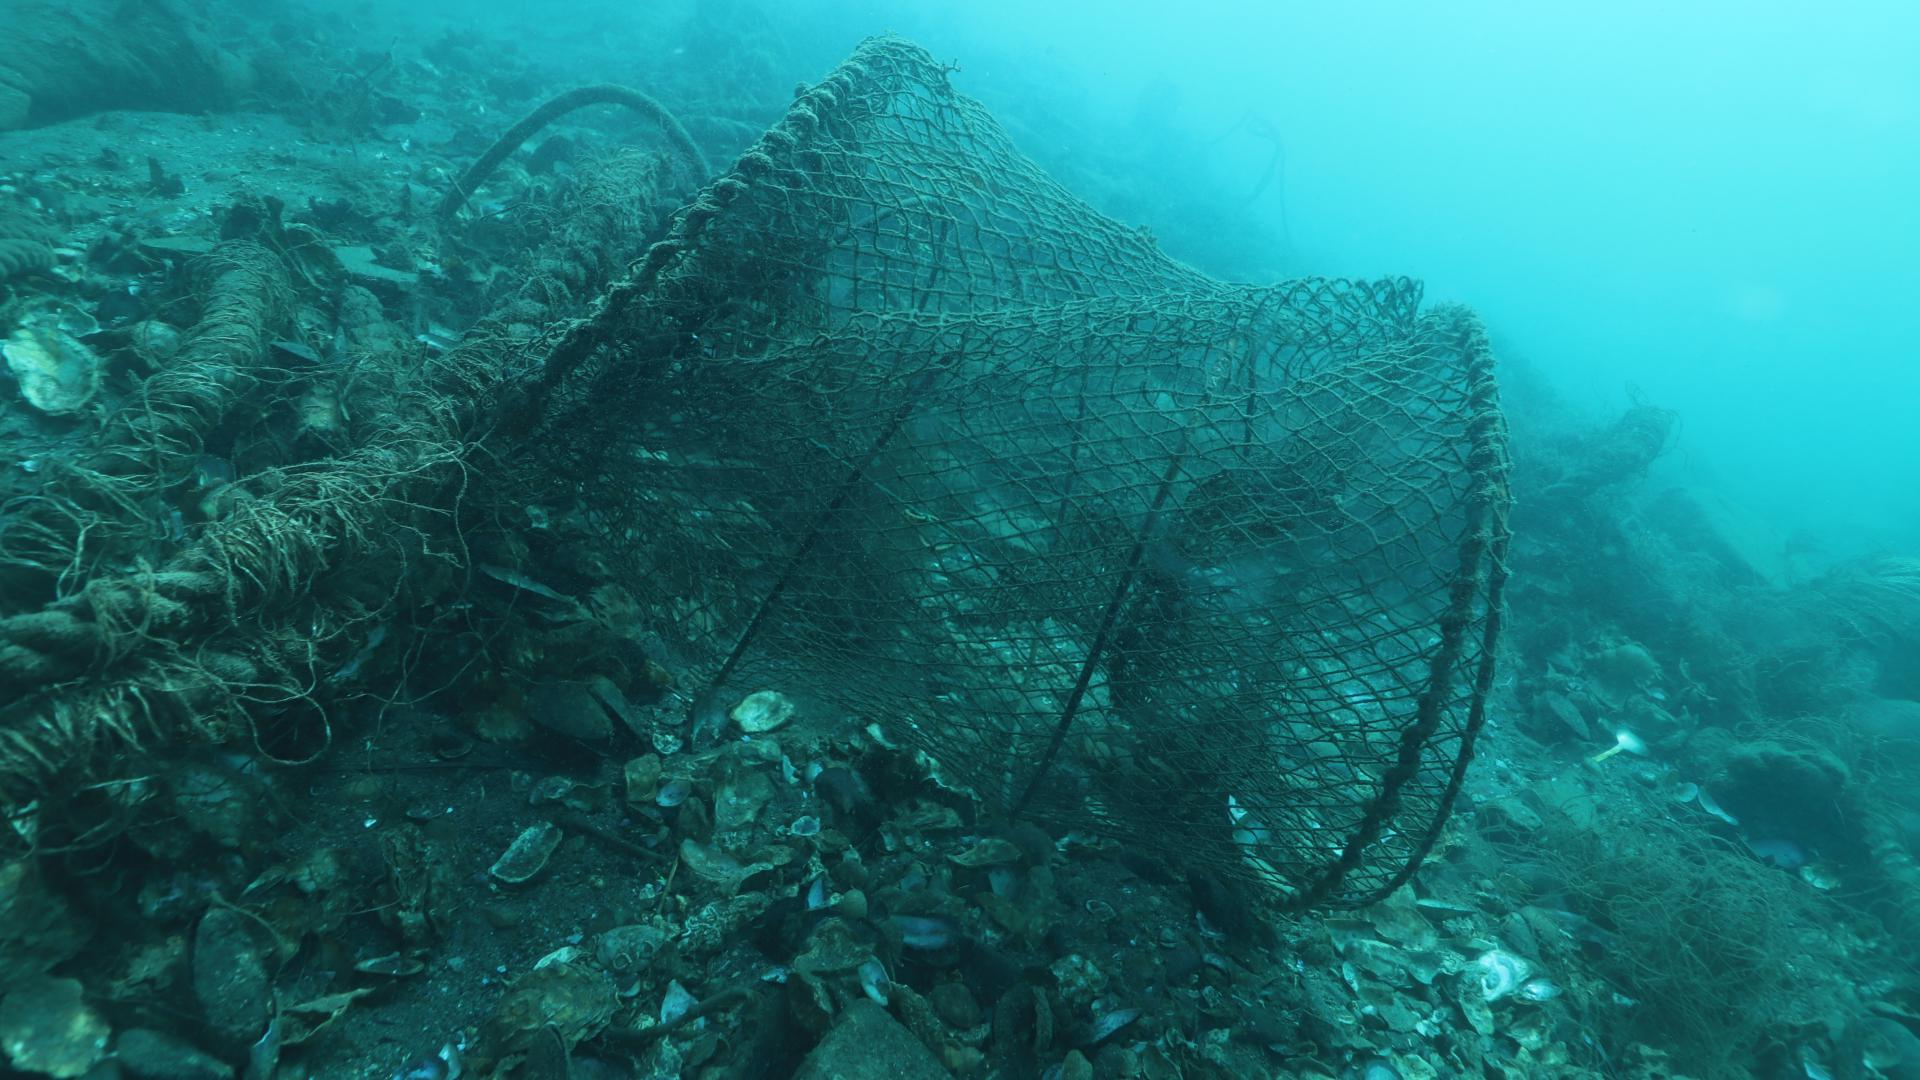rope: (0, 539, 218, 708), (152, 258, 268, 411)
spring fish trap: (465, 44, 1514, 938)
